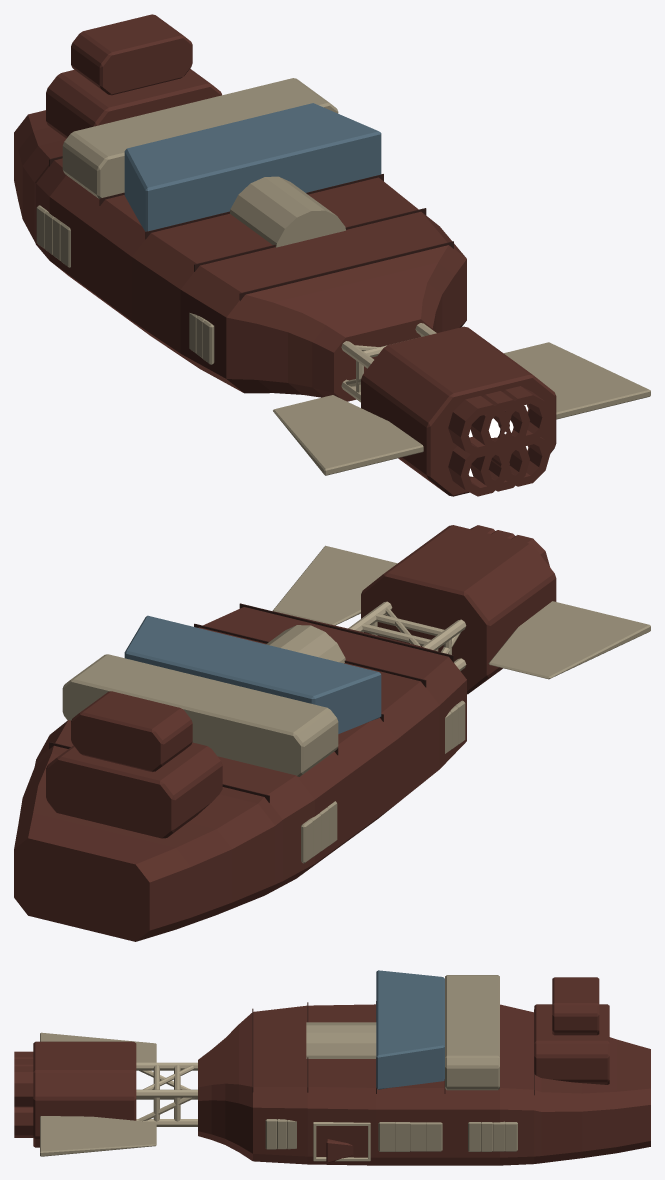
3 views of the same model, one above another, from view 1: azimuth 30°, elevation 25°; view 2: azimuth 150°, elevation 25°; view 3: azimuth 270°, elevation 25° (orthographic). The views are drawn at different scales.
Parts seen in each view (by area): view 1: RIMWARD_HULL; view 2: RIMWARD_HULL; view 3: RIMWARD_HULL.
Boxes of the visible parts, x1,y1,x2,y2 form: RIMWARD_HULL: (14, 14, 650, 496); RIMWARD_HULL: (14, 525, 650, 941); RIMWARD_HULL: (14, 970, 650, 1165).
Size of the model in its own units: 13.21 by 7.75 by 29.7.
